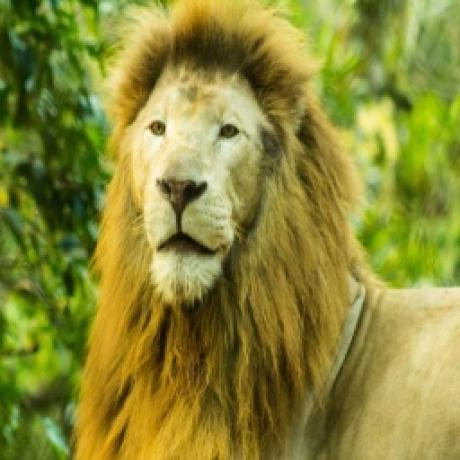Lion: (62, 0, 460, 460)
